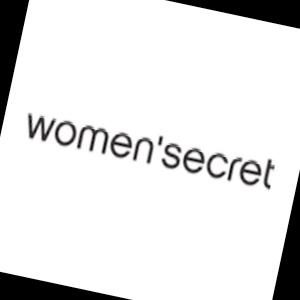women_secret: (275, 51, 294, 153)
